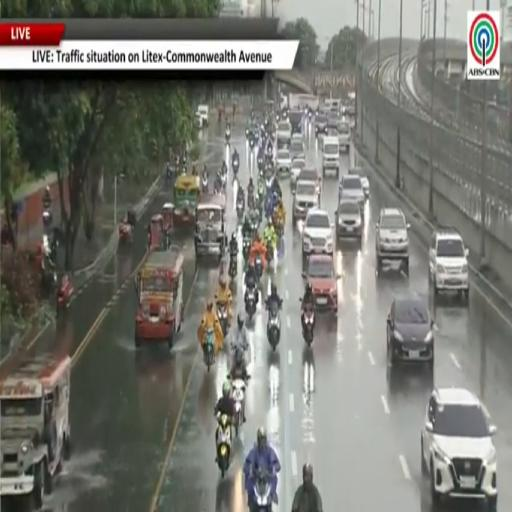car: (421, 388, 497, 511), (387, 296, 434, 367), (429, 228, 469, 301), (302, 254, 341, 312), (376, 208, 409, 275), (302, 208, 333, 261), (336, 199, 363, 242), (292, 180, 318, 223), (339, 174, 365, 213), (297, 167, 321, 203), (322, 136, 339, 178), (348, 167, 369, 198), (337, 119, 350, 152), (291, 158, 306, 184), (289, 109, 303, 135), (276, 149, 291, 172), (290, 135, 305, 158), (277, 121, 291, 143), (196, 105, 209, 127), (315, 114, 327, 136), (327, 114, 339, 134)
jeepney: (0, 354, 71, 508), (135, 246, 184, 347), (194, 194, 227, 259), (174, 175, 200, 226), (148, 214, 165, 250), (162, 202, 173, 231)
motorcycle: (216, 414, 232, 477), (250, 469, 272, 511), (231, 379, 245, 437), (267, 303, 280, 350), (57, 275, 73, 310), (41, 264, 57, 296), (302, 309, 314, 347), (204, 328, 214, 372), (216, 302, 227, 337), (245, 287, 256, 321), (255, 253, 263, 281), (229, 255, 237, 281), (243, 237, 251, 262), (266, 240, 273, 263), (237, 199, 244, 221), (215, 176, 223, 195), (232, 158, 239, 175), (202, 176, 208, 194), (221, 173, 226, 193), (248, 195, 254, 210), (249, 137, 255, 150), (225, 130, 230, 143), (181, 165, 187, 175), (246, 128, 250, 138)
